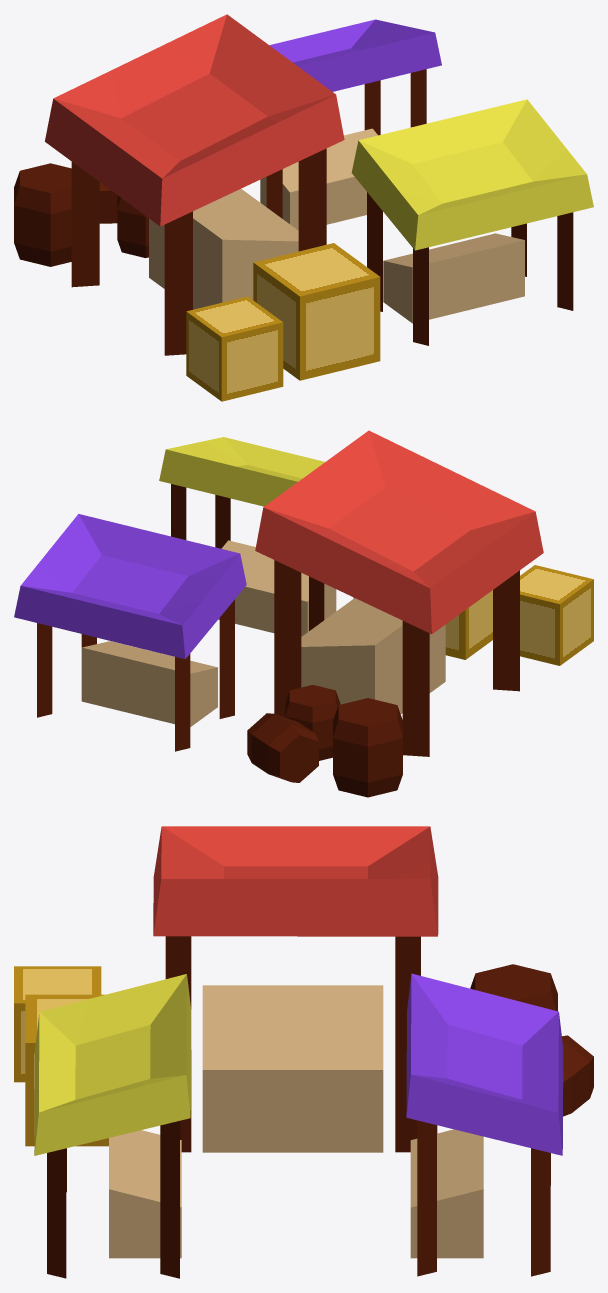
Rendered from Human-Market.fbx.
3 views of the same model, one above another, from view 1: azimuth 30°, elevation 25°; view 2: azimuth 150°, elevation 25°; view 3: azimuth 270°, elevation 25° (orthographic). The views are drawn at different scales.
Visible parts, largest first — view 1: Human-Market; view 2: Human-Market; view 3: Human-Market.
Part boxes in pixels (x1,y1,x2,y2): Human-Market: (14, 14, 593, 401); Human-Market: (14, 430, 593, 797); Human-Market: (14, 826, 593, 1278).
Bounding box in the file's own units: 0.9093 × 0.9654 × 0.516.
6 materials, 1 textured.
